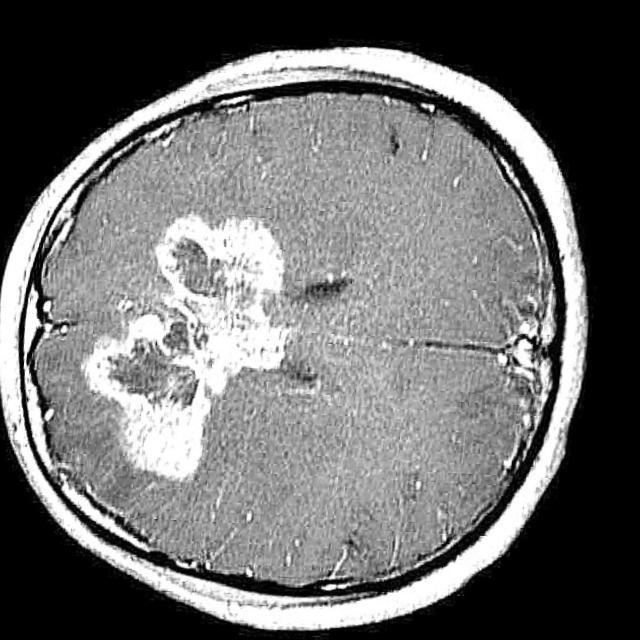Tumor: (93, 212, 297, 477)
